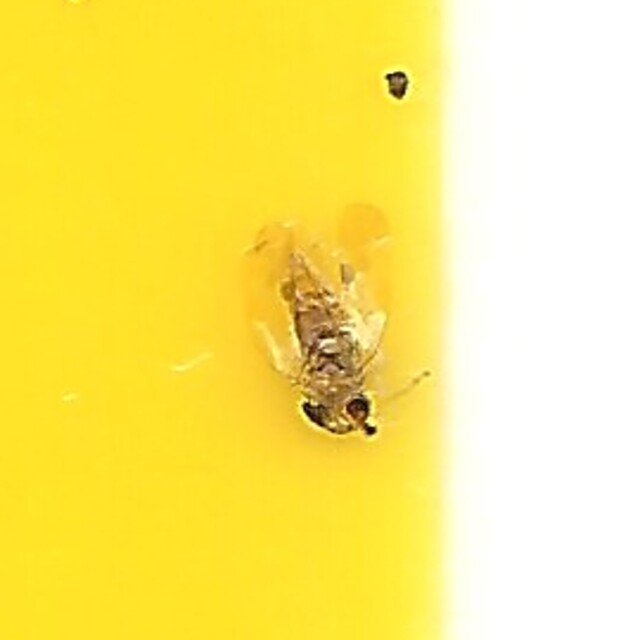Hemiptera: (237, 199, 403, 441)
